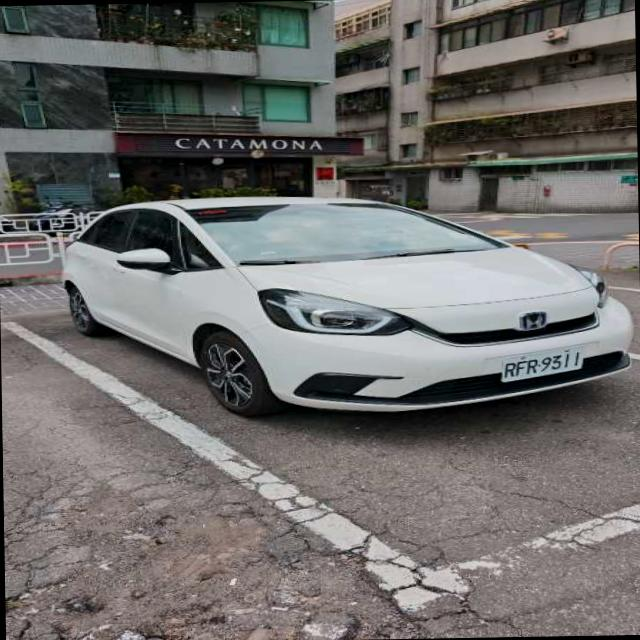license plate: (501, 347, 581, 382)
wheel: (198, 331, 282, 415)
